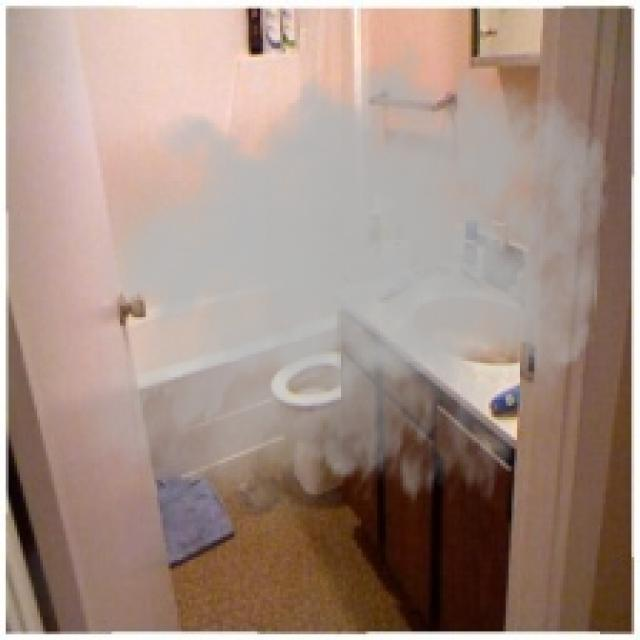smoke: (63, 26, 611, 563)
